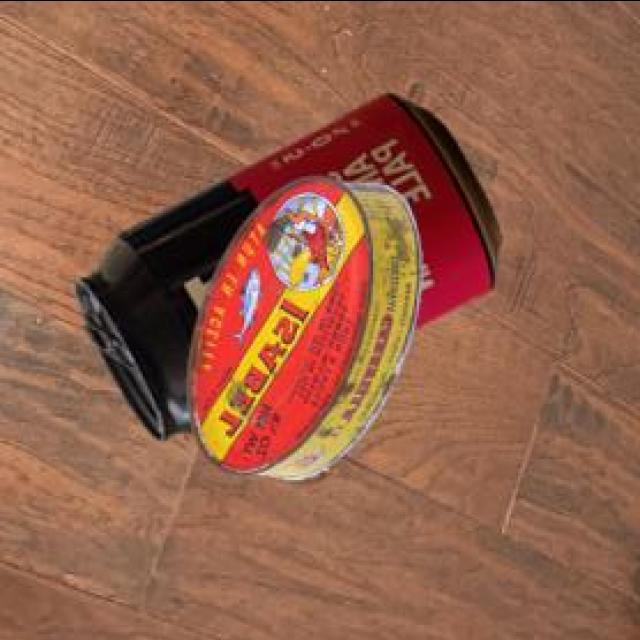logam: (79, 96, 505, 443), (192, 181, 425, 478), (277, 470, 333, 485)
